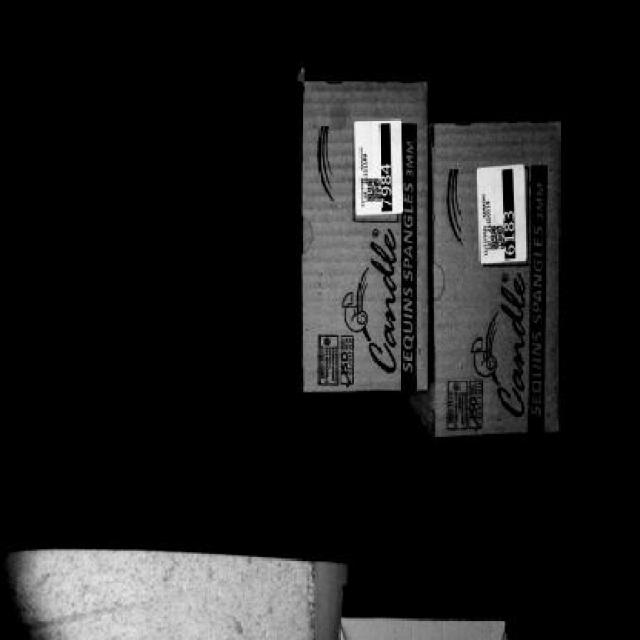cardboxes: (435, 125, 562, 437), (302, 79, 428, 392)
